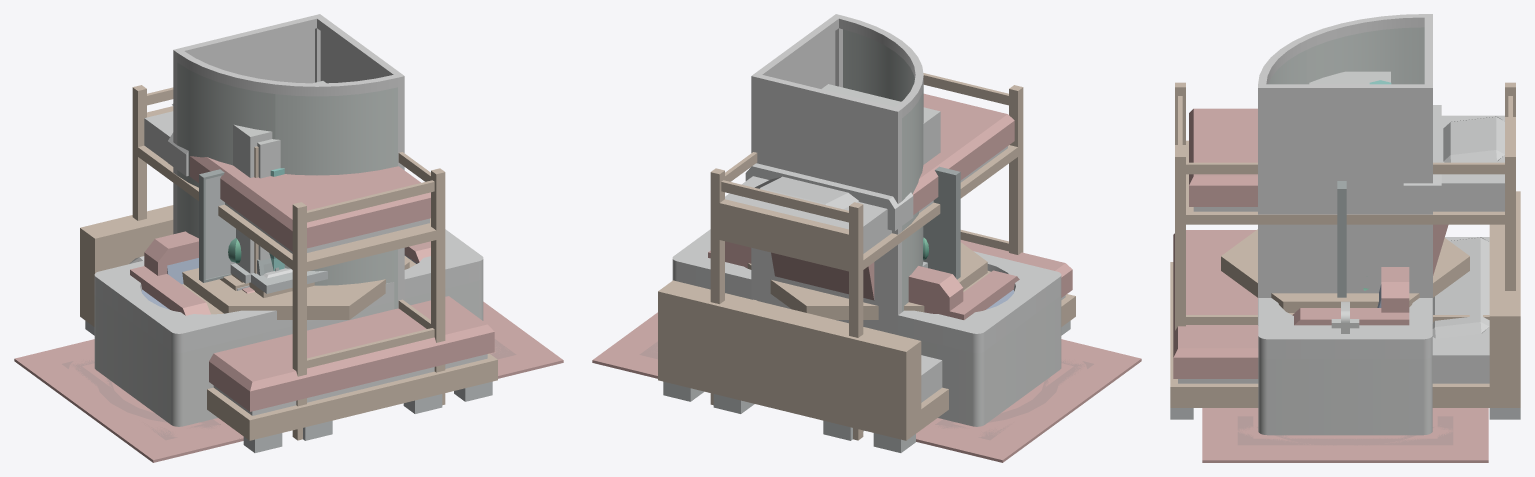
The model's file is moebel.glb.
3 renders of one model, left to right at view 1: azimuth 30°, elevation 25°; view 2: azimuth 150°, elevation 25°; view 3: azimuth 270°, elevation 25°, orthographic. The views are drawn at different scales.
Visible parts, largest first — view 1: shower, bedBunk, bedDouble, bathtub, bedSingle, rugRectangle, rugRounded, tableRound, loungeSofa, tv, kitchenFridge, cakeTable (+4 smaller); view 2: shower, bedBunk, bedDouble, bathtub, bedSingle, rugRectangle, loungeSofa, rugRounded, tv, tableRound, loungeChairRelax, kitchenFridge (+1 smaller); view 3: shower, bedBunk, bedDouble, bathtub, rugRectangle, bedSingle, tableRound, loungeSofa, rugRounded, tv, rugSquare, kitchenFridge (+1 smaller).
Part boxes in pixels (box(x1,y1,x2,y2)): shower: box(173, 14, 404, 309); bedBunk: box(132, 85, 445, 440); bedDouble: box(80, 208, 497, 452); bathtub: box(94, 229, 483, 426); bedSingle: box(130, 205, 447, 440); rugRectangle: box(14, 301, 563, 462); rugRounded: box(65, 305, 512, 438); tableRound: box(182, 258, 409, 319); loungeSofa: box(130, 231, 430, 315); tv: box(199, 169, 235, 282); kitchenFridge: box(233, 81, 326, 273); cakeTable: box(182, 262, 409, 319); shower: box(751, 14, 923, 334); bedBunk: box(710, 73, 1023, 440); bedDouble: box(658, 252, 1075, 452); bathtub: box(672, 229, 1061, 426); bedSingle: box(708, 240, 1011, 440); rugRectangle: box(592, 312, 1141, 462); loungeSofa: box(708, 241, 1019, 319); rugRounded: box(643, 321, 1090, 438); tv: box(923, 166, 960, 279); tableRound: box(748, 242, 987, 319); loungeChairRelax: box(771, 252, 874, 300); kitchenFridge: box(821, 84, 940, 164); shower: box(1258, 14, 1432, 325); bedBunk: box(1175, 82, 1515, 330); bedDouble: box(1170, 191, 1520, 419); bathtub: box(1258, 298, 1432, 435); rugRectangle: box(1202, 416, 1488, 462); bedSingle: box(1170, 216, 1520, 361); tableRound: box(1221, 229, 1469, 312); loungeSofa: box(1292, 267, 1409, 325); rugRounded: box(1208, 416, 1481, 460); tv: box(1337, 181, 1346, 297); rugSquare: box(1202, 408, 1488, 416); kitchenFridge: box(1309, 71, 1390, 84).
Bounding box in the file's own units: 1.57 × 1.09 × 1.12.
